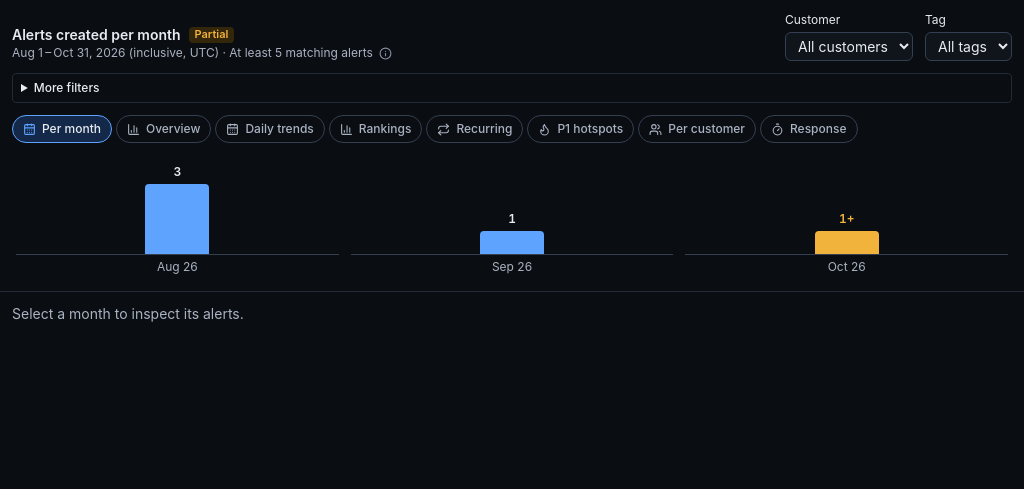
Scenario: HistoryAnalysis: the results › filters by customer and tag, and names the filters on the drilldown
Select "Acme" in the dropdown labelled "Customer" at (849, 46), box [785,32,913,61]
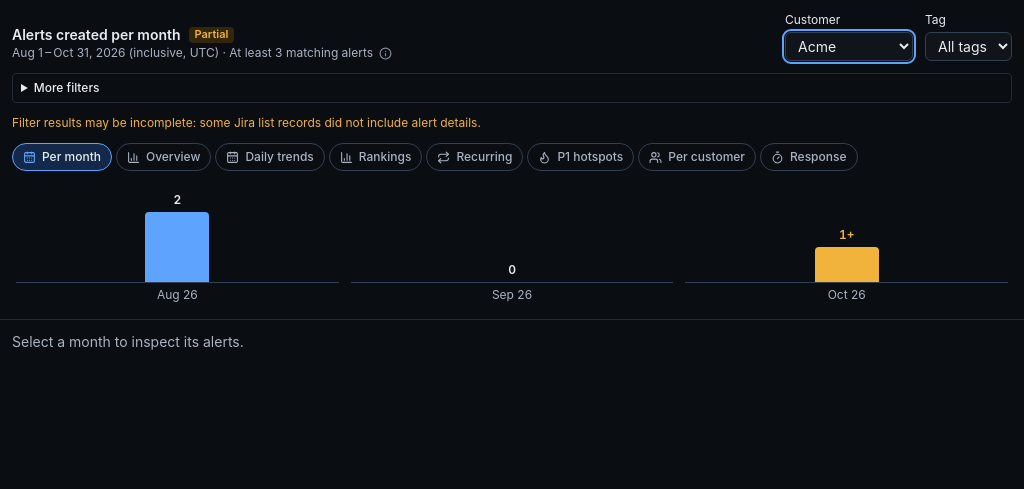
Expected: the text "At least 3 matching alerts" is shown, [12,45,373,61]
Select "disk" in the dropdown labelled "Tag" at (968, 46), box [925,32,1012,61]
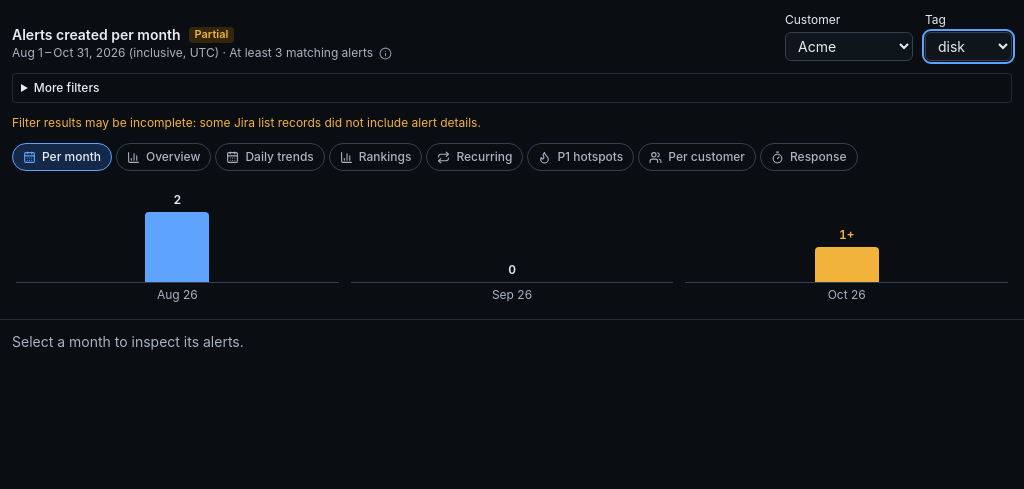
Click the button with aria-label "August 2026, 2 alerts".
click(177, 245)  # box [12,183,343,307]
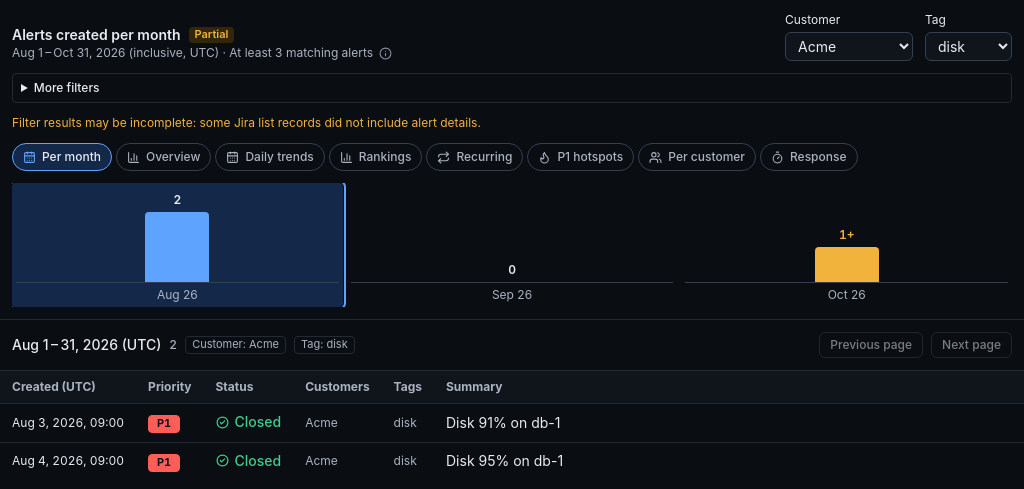
Expected: the text "Customer: Acme" is shown, [185,336,286,354]
Expected: the text "Tag: disk" is shown, [294,336,355,354]
